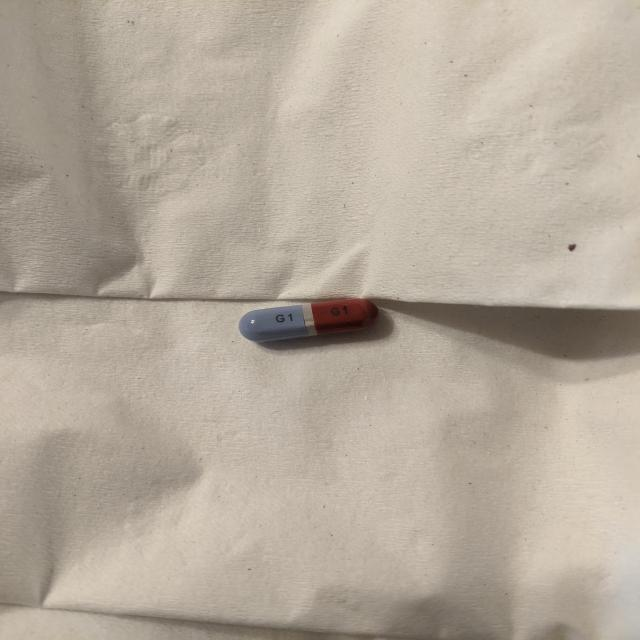non-organic waste: (236, 296, 382, 344)
